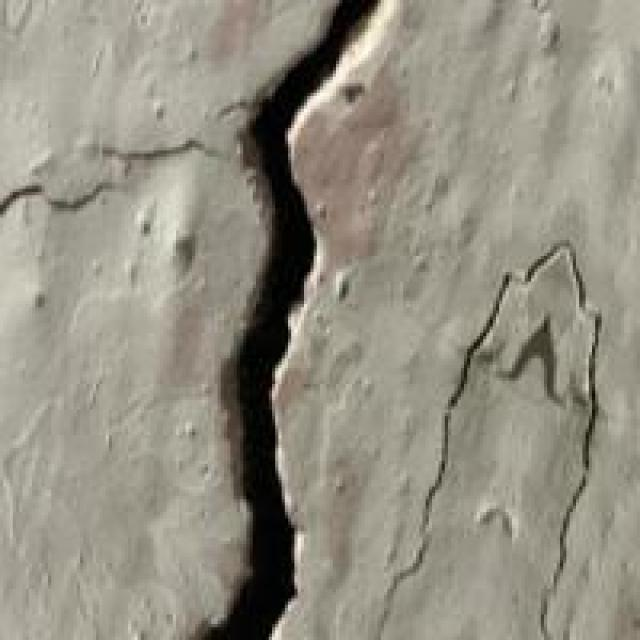crack: (160, 0, 490, 637)
